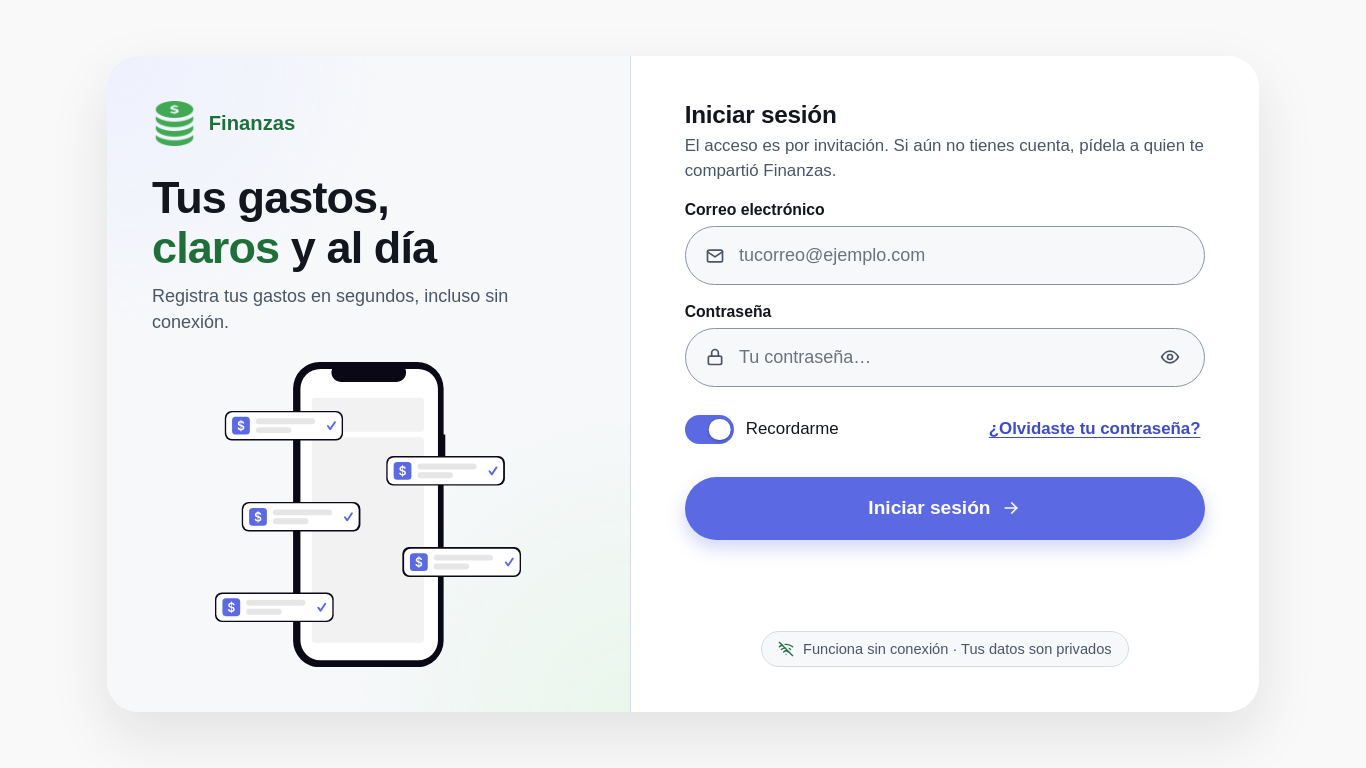
Scenario: PaginaAuth › iniciar sesión › rechaza un correo mal escrito con un mensaje que explica cómo corregirlo
In the field labelled "Correo electrónico": {"x": 967, "y": 256} [739,228,1195,284], type "no-es-correo"
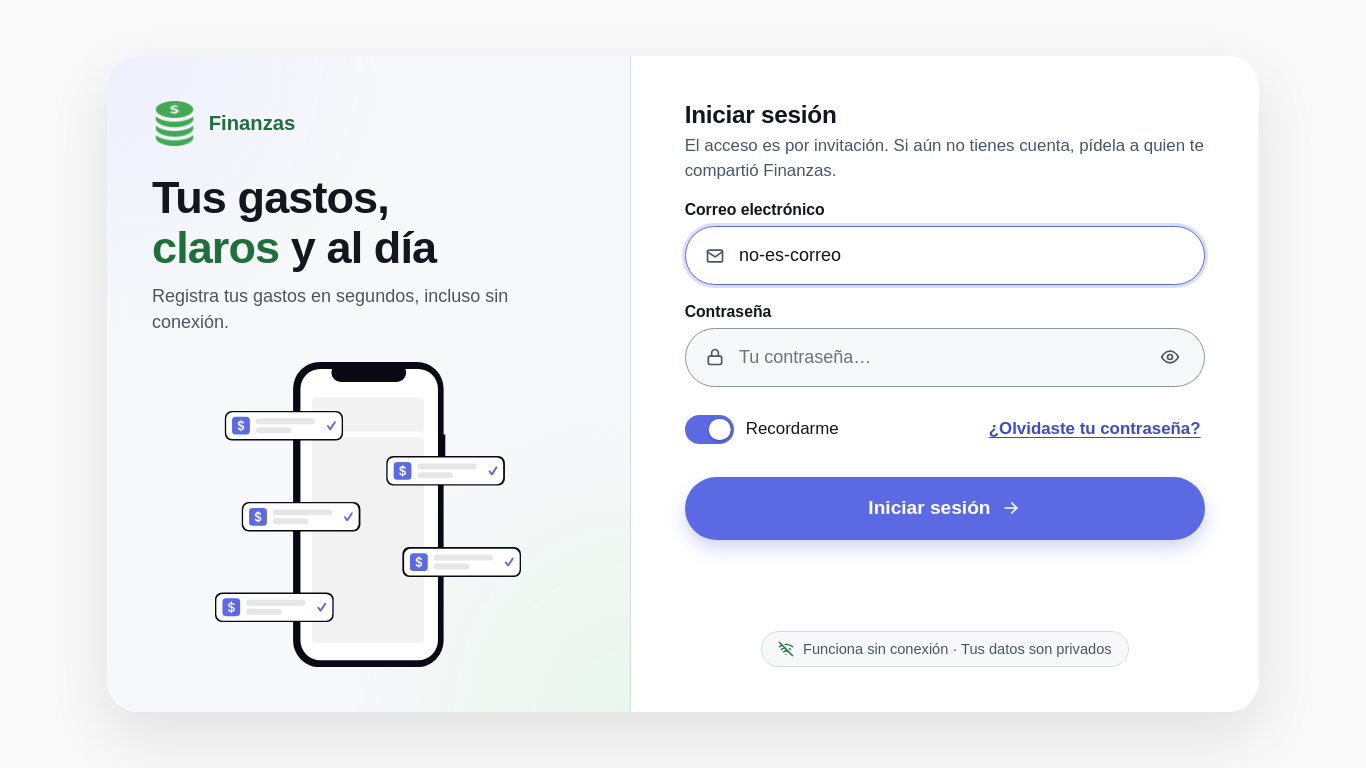
In the password field labelled "Contraseña": {"x": 935, "y": 357} [739,330,1132,385], type "secreto1"
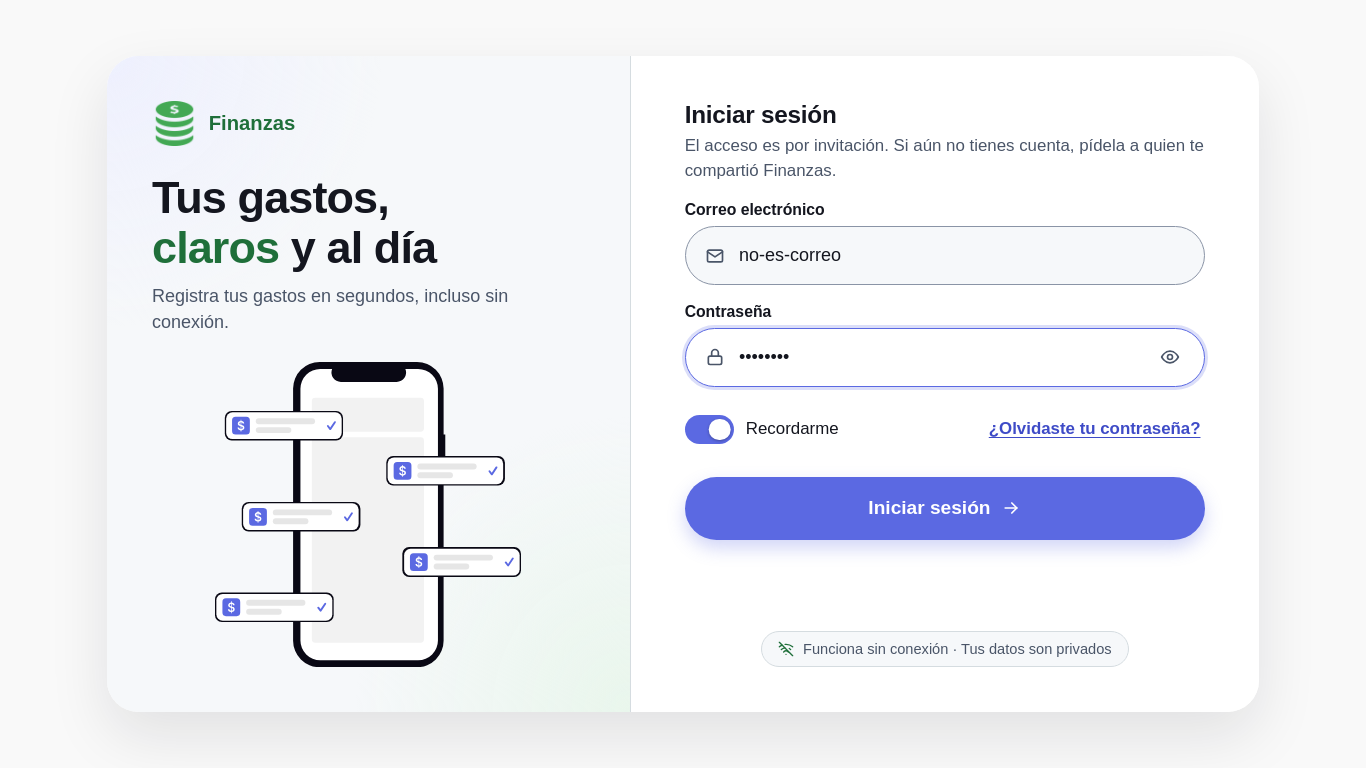
Click the button "Iniciar sesión": {"x": 945, "y": 508} [685,477,1205,540]
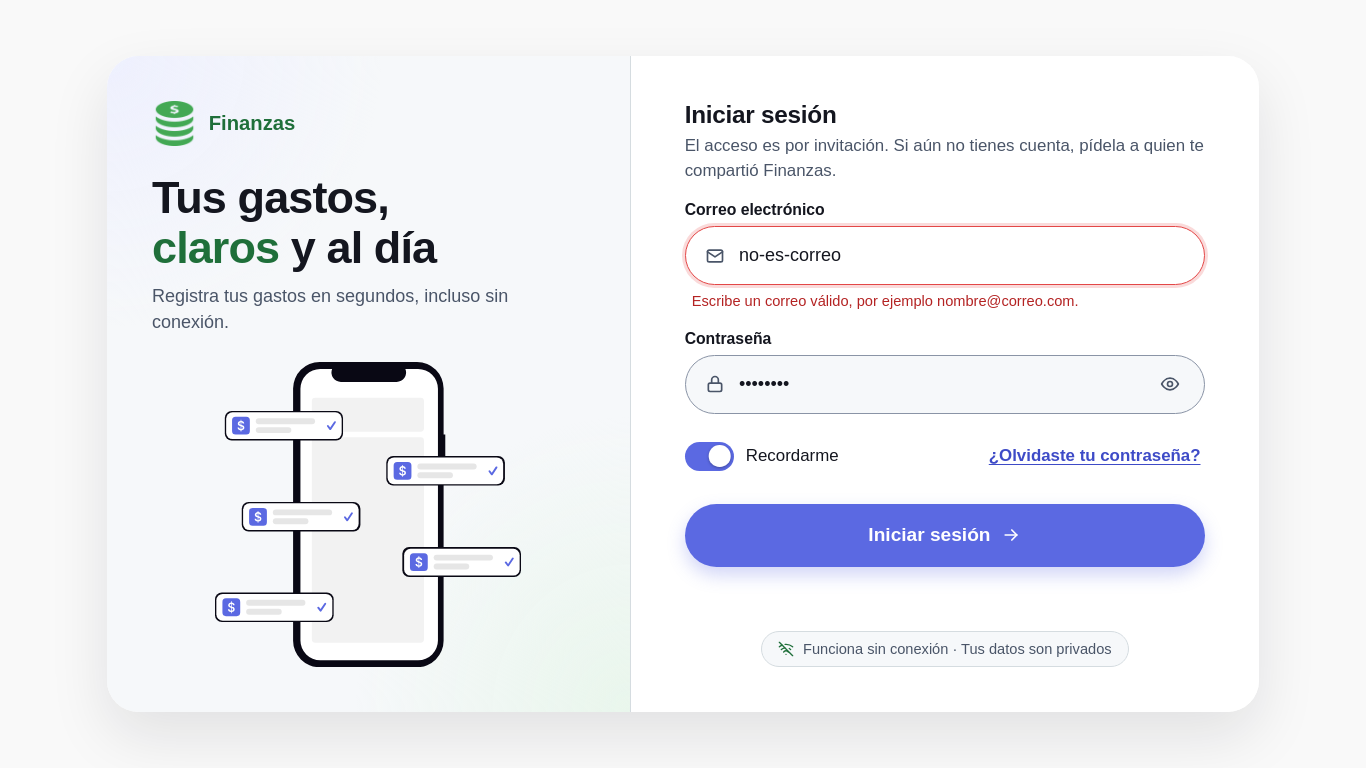
Expected: the text "Escribe un correo válido, por ejemplo nombre@correo.com." is shown, [692,293,1078,309]
